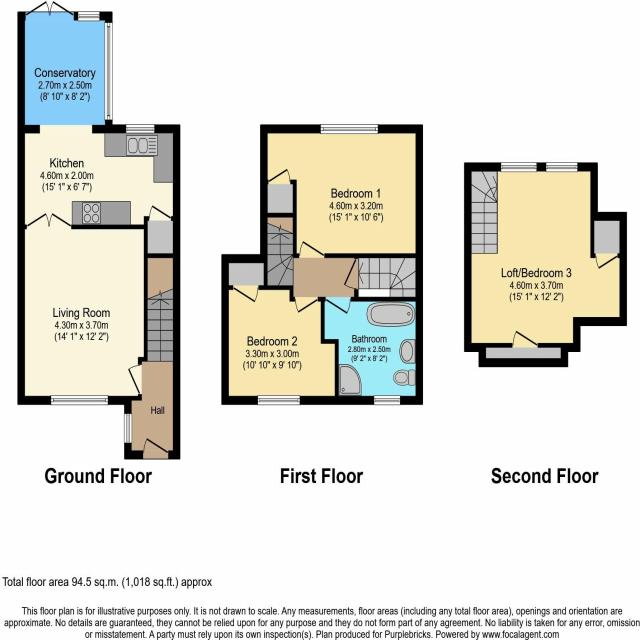DOOR: (142, 437, 169, 460), (325, 297, 351, 315), (299, 240, 325, 258), (127, 364, 142, 395), (294, 297, 318, 314)
DOUBLE DOOR: (24, 0, 76, 20), (26, 211, 73, 229)
ROOM: (17, 0, 181, 258), (17, 211, 147, 404), (260, 124, 423, 258), (221, 254, 339, 405)
WINDOW: (104, 22, 113, 121), (50, 395, 109, 406), (320, 124, 378, 134), (499, 161, 538, 174), (545, 160, 579, 174), (257, 395, 300, 406), (123, 413, 133, 444), (374, 395, 401, 406), (125, 124, 155, 133), (78, 11, 100, 22)
